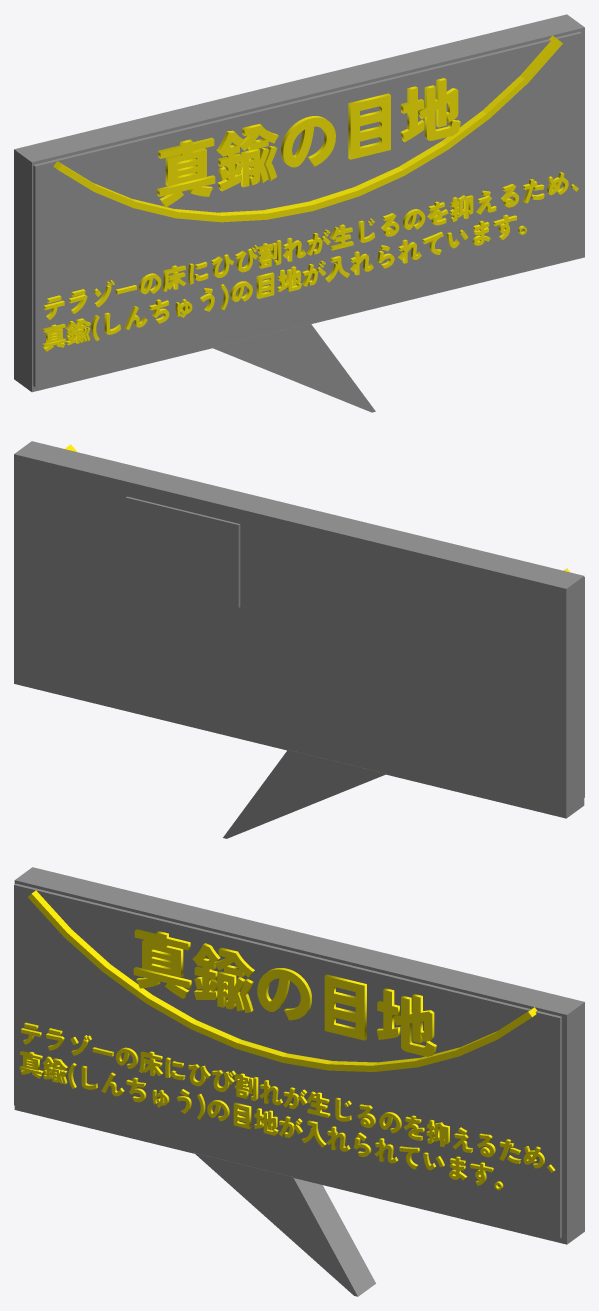
The model's file is fukidasi-yuka.glb.
3 renders of one model, top to bottom at view 1: azimuth 30°, elevation 25°; view 2: azimuth 150°, elevation 25°; view 3: azimuth 330°, elevation 25°, orthographic.
Visible parts, largest first — view 1: 立方体.002, 立方体, テキスト, テキスト.002, 立方体.004, 立方体.001; view 2: 立方体, 立方体.003, 立方体.001; view 3: 立方体.002, 立方体, テキスト, テキスト.002, 立方体.001, 立方体.004.
Part boxes in pixels (bbox=[...]): 立方体.002: bbox=[33, 31, 581, 387]; 立方体: bbox=[14, 14, 584, 392]; テキスト: bbox=[42, 172, 578, 351]; テキスト.002: bbox=[157, 78, 460, 207]; 立方体.004: bbox=[53, 35, 562, 222]; 立方体.001: bbox=[211, 323, 375, 412]; 立方体: bbox=[14, 441, 584, 818]; 立方体.003: bbox=[125, 496, 240, 607]; 立方体.001: bbox=[223, 750, 386, 838]; 立方体.002: bbox=[14, 883, 561, 1238]; 立方体: bbox=[14, 867, 584, 1244]; テキスト: bbox=[19, 1022, 554, 1190]; テキスト.002: bbox=[133, 929, 436, 1056]; 立方体.001: bbox=[194, 1152, 375, 1296]; 立方体.004: bbox=[28, 890, 537, 1071].
Bounding box in the file's own units: 11.12 × 6.4 × 0.8977.
